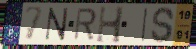7: (24, 5, 44, 42)
H: (95, 4, 126, 45)
I: (140, 7, 150, 44)
N: (44, 7, 70, 42)
R: (73, 7, 98, 42)
S: (150, 6, 176, 45)
